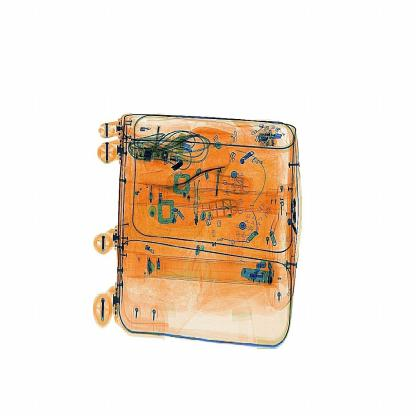knife: (161, 147, 194, 182)
